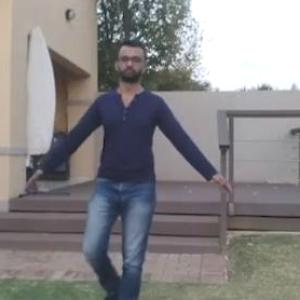land: (40, 42, 230, 299)
